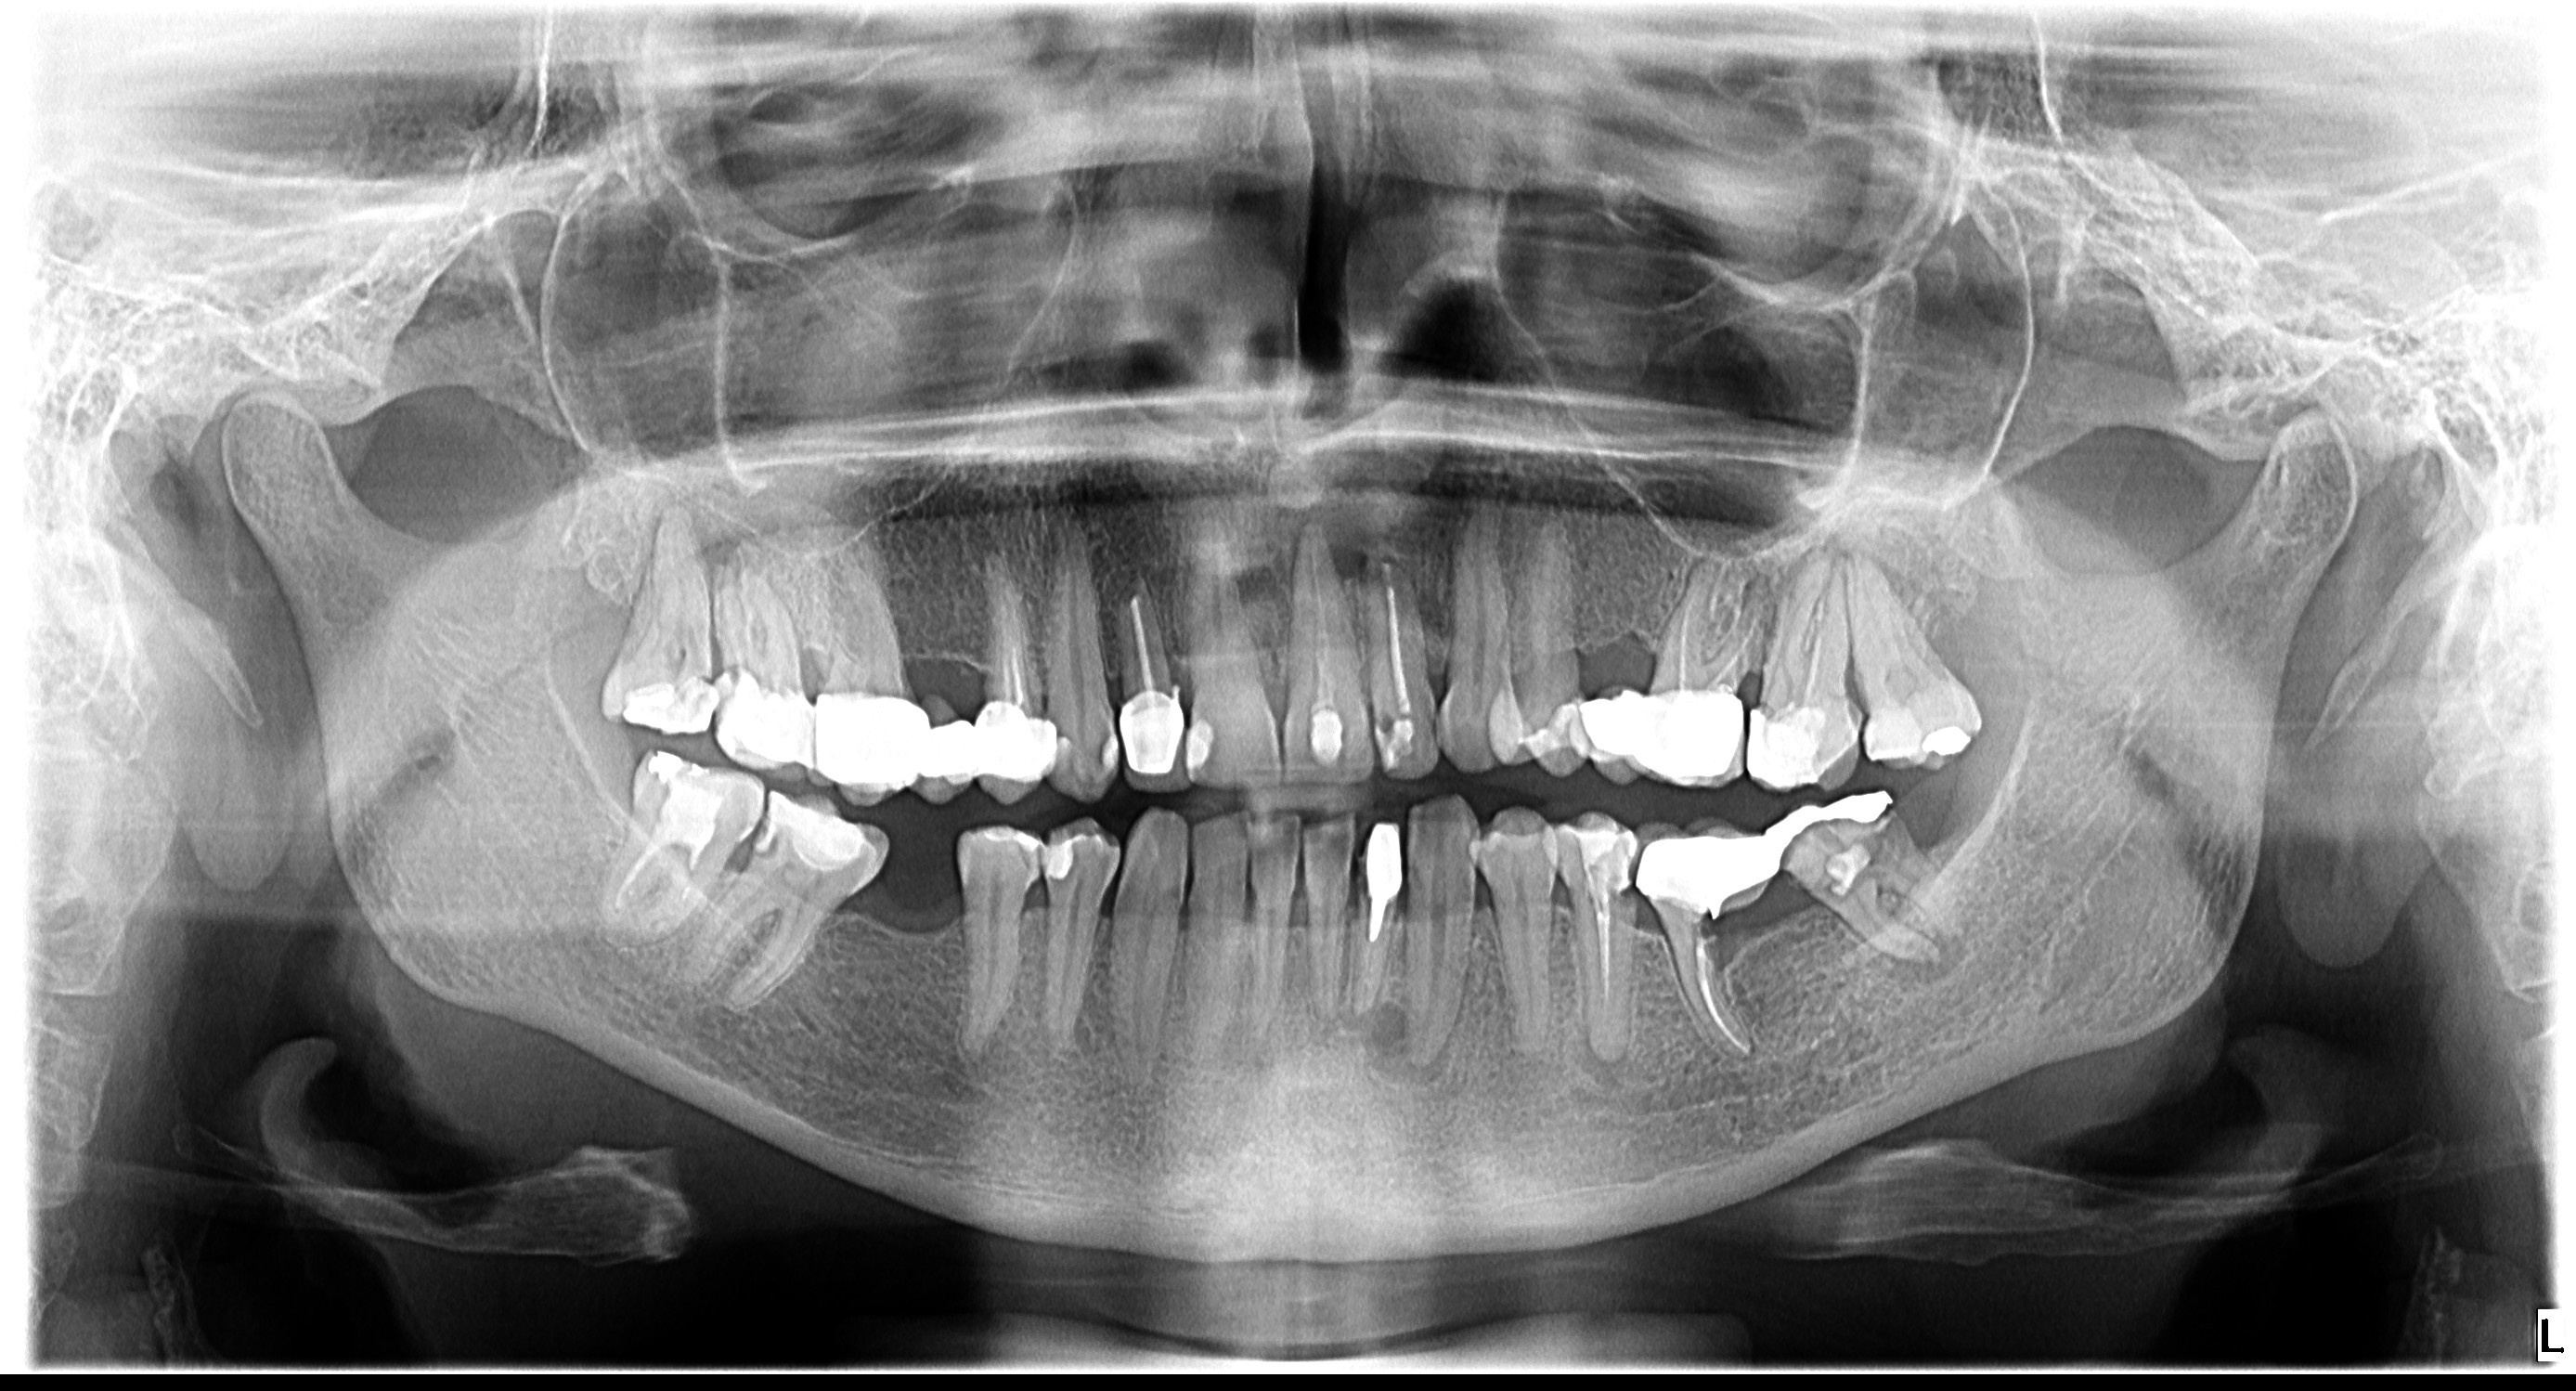API: (1352, 1011, 1450, 1093), (1903, 930, 1984, 983)
APS: (1374, 528, 1443, 570), (1114, 543, 1157, 596)
END: (613, 785, 734, 918), (1677, 569, 1754, 697), (1570, 887, 1631, 1038), (1373, 565, 1433, 714), (1291, 524, 1342, 697), (1684, 928, 1741, 1060), (1114, 605, 1174, 694), (984, 618, 1039, 699)
IMT: (1706, 928, 1770, 973), (1592, 630, 1659, 666), (914, 653, 988, 684), (1631, 916, 1664, 951), (1287, 898, 1313, 934)
OBT: (811, 689, 1049, 805), (1659, 815, 1780, 915), (1784, 793, 1905, 846), (1354, 819, 1405, 940), (1121, 694, 1184, 783)
PRR: (751, 795, 870, 877), (717, 680, 813, 771), (618, 675, 722, 747), (1568, 819, 1640, 920), (1751, 702, 1826, 793), (1296, 702, 1357, 774), (1523, 701, 1599, 757), (1903, 723, 1987, 766), (1857, 704, 1917, 764), (1806, 843, 1878, 893), (630, 747, 714, 783), (1183, 716, 1224, 769), (1010, 834, 1046, 894), (1039, 831, 1077, 886), (1051, 738, 1082, 786), (1097, 725, 1121, 783)
